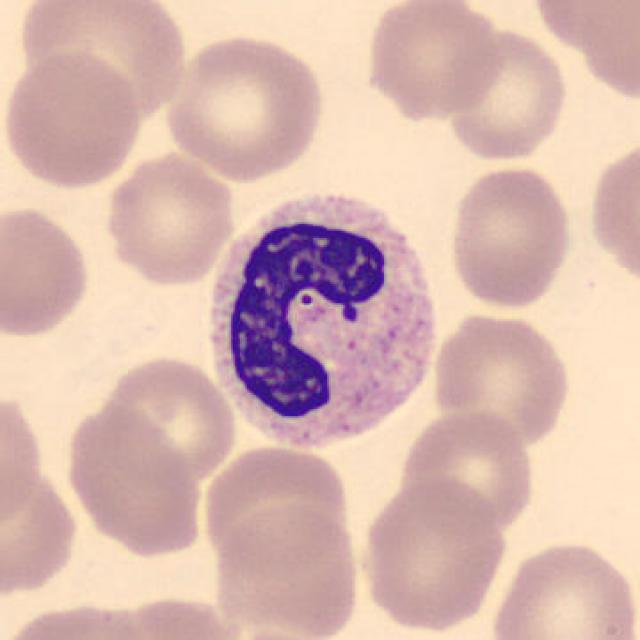Neutrophil: (196, 182, 448, 462)
RBC: (160, 30, 329, 183), (356, 474, 510, 635), (60, 400, 210, 559), (14, 0, 192, 123), (210, 499, 364, 640), (428, 308, 574, 452), (0, 48, 144, 190), (199, 441, 354, 571), (100, 146, 238, 289), (444, 162, 576, 310), (441, 21, 572, 164), (98, 352, 238, 484), (396, 407, 538, 536), (361, 0, 507, 123), (486, 536, 638, 640), (0, 201, 94, 342), (0, 466, 81, 597), (540, 1, 640, 90), (585, 132, 638, 296), (96, 590, 243, 640), (0, 386, 46, 540), (0, 597, 158, 640), (210, 626, 352, 640)
